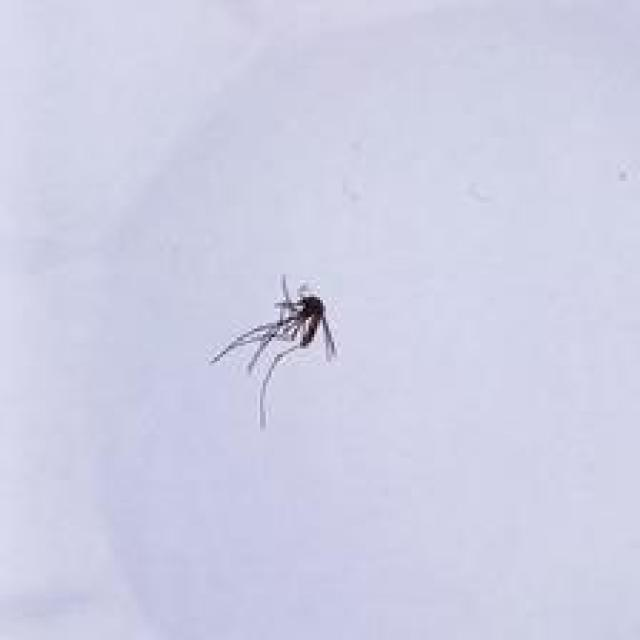Culex: (209, 273, 337, 430)
